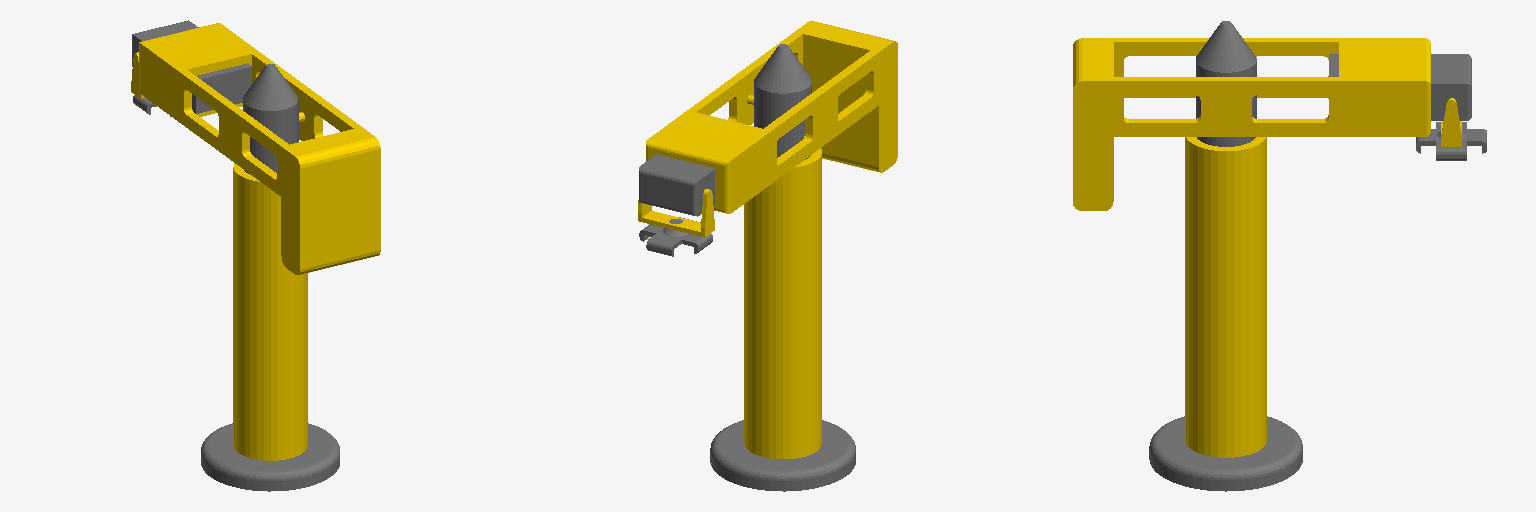
The robot description file, URDF, robot "robot_grua":
<?xml version="1.0"?>
<robot name="robot_grua">

  <!-- Color of materials -->
  <material name="yellow">
    <color rgba="1 0.85 0 1"/>
  </material>
  <material name="black">
    <color rgba="0.5 0.5 0.5 1"/>
  </material>
  
  <link name="link0">
    <visual>
      <geometry>
        <mesh filename="package://robot_grua/urdf/stl_parts/base.stl" scale="0.01 0.01 0.01"/>
      </geometry>
      <origin rpy="0 0 0" xyz="0 0 0"/>
      <material name="black" />
    </visual>
  </link>
  
  <joint name="joint_01" type="revolute">
    <parent link="link0"/>
    <child link="link1"/>
    <origin xyz="0 0 0"/>
    <axis xyz="0 0 1" />
    <limit effort="300" velocity="0.1" lower="-3.1" upper="3.1"/>
  </joint>

  <link name="link1">
    <visual>
      <geometry>
        <mesh filename="package://robot_grua/urdf/stl_parts/link1.stl" scale="0.01 0.01 0.01"/>
      </geometry>
      <origin rpy="0 0 0" xyz="0 0 0"/>
      <material name="yellow" />
    </visual>
  </link>
  
  <joint name="joint_12" type="prismatic">
    <parent link="link1"/>
    <child link="link2"/>
    <origin xyz="0 0 2.8"/>
    <axis xyz="0 0 1" />
    <limit effort="300" velocity="0.1" lower="0" upper="0.7"/>
  </joint>

  <link name="link2">
    <visual>
      <geometry>
        <mesh filename="package://robot_grua/urdf/stl_parts/link2.stl" scale="0.01 0.01 0.01"/>
      </geometry>
      <origin rpy="0 0 0" xyz="0 0 0"/>
      <material name="black" />
    </visual>
  </link>
  
  <joint name="joint_23" type="revolute">
    <parent link="link2"/>
    <child link="link3"/>
    <origin xyz="0 0 1.2"/>
    <axis xyz="1 0 0" />
    <limit effort="300" velocity="0.1" lower="-0.87" upper="0.52"/>
  </joint>

  <link name="link3">
    <visual>
      <geometry>
        <mesh filename="package://robot_grua/urdf/stl_parts/link3.stl" scale="0.01 0.01 0.01"/>
      </geometry>
      <origin rpy="0 0 0" xyz="0 0 0"/>
      <material name="yellow" />
    </visual>
  </link>
  
  <joint name="joint_34" type="prismatic">
    <parent link="link3"/>
    <child link="link4"/>
    <origin xyz="0 1 0"/>
    <axis xyz="0 1 0" />
    <limit effort="300" velocity="0.1" lower="0" upper="1.0"/>
  </joint>

  <link name="link4">
    <visual>
      <geometry>
        <mesh filename="package://robot_grua/urdf/stl_parts/link4.stl" scale="0.01 0.01 0.01"/>
      </geometry>
      <origin rpy="0 0 0" xyz="0 0 0"/>
      <material name="black" />
    </visual>
  </link>
  
  <joint name="joint_45" type="revolute">
    <parent link="link4"/>
    <child link="link5"/>
    <origin xyz="0 1.2 0"/>
    <axis xyz="1 0 0" />
    <limit effort="300" velocity="0.1" lower="-0.25" upper="0.25"/>
  </joint>

  <link name="link5">
    <visual>
      <geometry>
        <mesh filename="package://robot_grua/urdf/stl_parts/link5.stl" scale="0.01 0.01 0.01"/>
      </geometry>
      <origin rpy="0 0 0" xyz="0 0 0"/>
      <material name="yellow" />
    </visual>
  </link>
  
  <joint name="joint_56" type="revolute">
    <parent link="link5"/>
    <child link="link6"/>
    <origin xyz="0 0 -0.4"/>
    <axis xyz="0 0 1" />
    <limit effort="300" velocity="0.1" lower="-3.1" upper="3.1"/>
  </joint>

  <link name="link6">
    <visual>
      <geometry>
        <mesh filename="package://robot_grua/urdf/stl_parts/link6.stl" scale="0.01 0.01 0.01"/>
      </geometry>
      <origin rpy="0 0 0" xyz="0 0 0"/>
      <material name="black" />
    </visual>
  </link>

</robot>

--- What the picture shows (computed from the rendered views, not written in the file) ---
3 views of the same robot in one strip: view 1: azimuth 30°, elevation 25°; view 2: azimuth 150°, elevation 25°; view 3: azimuth 270°, elevation 25° (orthographic).
Robot: robot_grua — 7 links, 6 joints (4 revolute, 2 prismatic); root link link0; default pose: every joint at zero.
Links seen in each view (by area): view 1: link3, link1, link0, link2, link4; view 2: link3, link1, link0, link2, link4, link5, link6; view 3: link3, link1, link0, link2, link4, link6, link5.
Boxes of the visible links, left/top/right/bottom form: link3: left=139, top=23, right=380, bottom=274; link1: left=233, top=163, right=307, bottom=460; link0: left=201, top=423, right=339, bottom=491; link2: left=243, top=64, right=298, bottom=173; link4: left=132, top=20, right=251, bottom=113; link3: left=646, top=21, right=897, bottom=213; link1: left=744, top=148, right=821, bottom=458; link0: left=710, top=420, right=855, bottom=491; link2: left=754, top=44, right=811, bottom=159; link4: left=639, top=154, right=714, bottom=216; link5: left=638, top=189, right=714, bottom=237; link6: left=639, top=217, right=712, bottom=256; link3: left=1073, top=38, right=1430, bottom=210; link1: left=1185, top=137, right=1266, bottom=457; link0: left=1149, top=416, right=1302, bottom=491; link2: left=1196, top=21, right=1256, bottom=146; link4: left=1329, top=54, right=1471, bottom=120; link6: left=1416, top=122, right=1486, bottom=160; link5: left=1441, top=98, right=1461, bottom=146.
Bounding box of the posed robot: 1.5 × 4.05 × 4.7 m (x, y, z).
7 mesh visuals loaded from 7 distinct referenced files (7 binary STL).